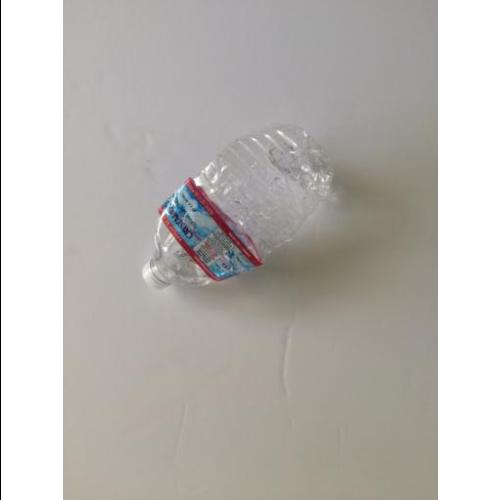plastic: (144, 129, 331, 298)
